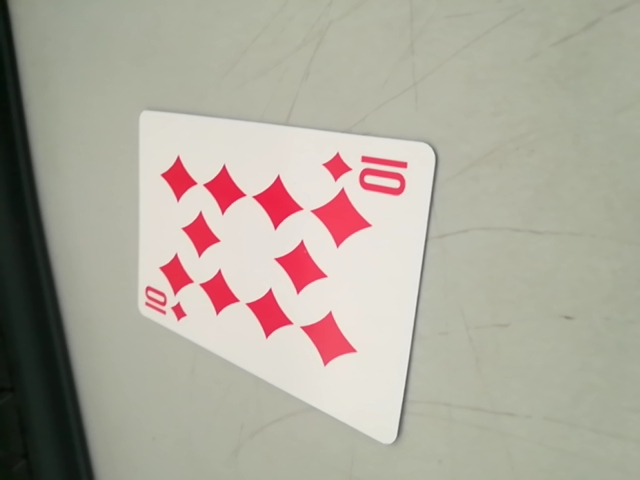fk 10: (322, 146, 415, 196), (137, 284, 192, 328)
